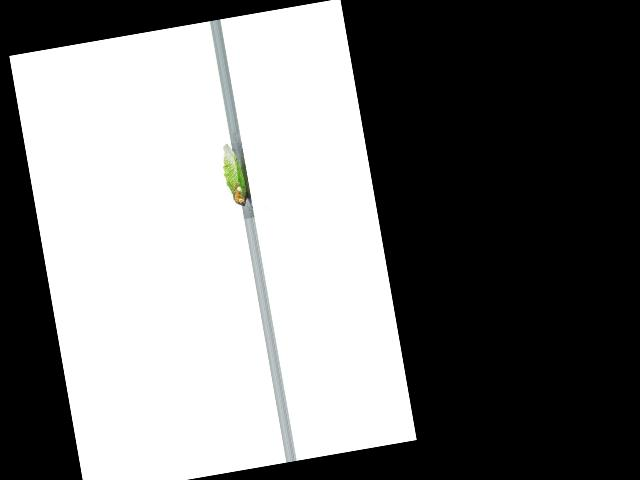lettuce: (216, 140, 252, 211)
